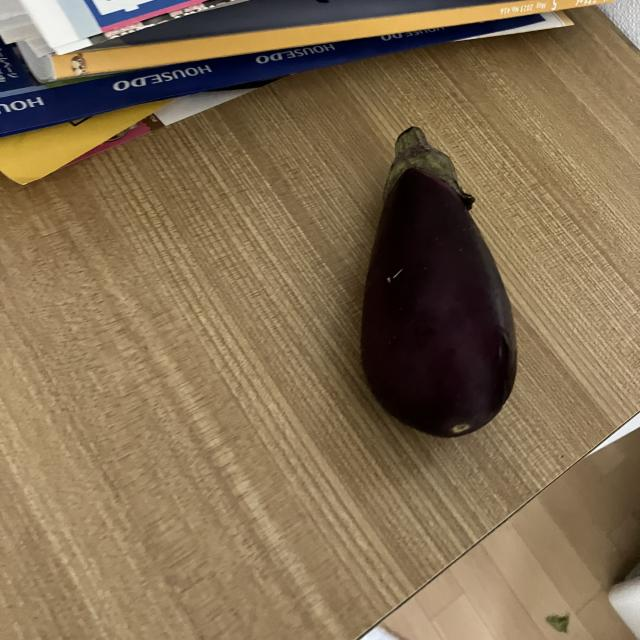eggplant: (354, 123, 522, 442)
